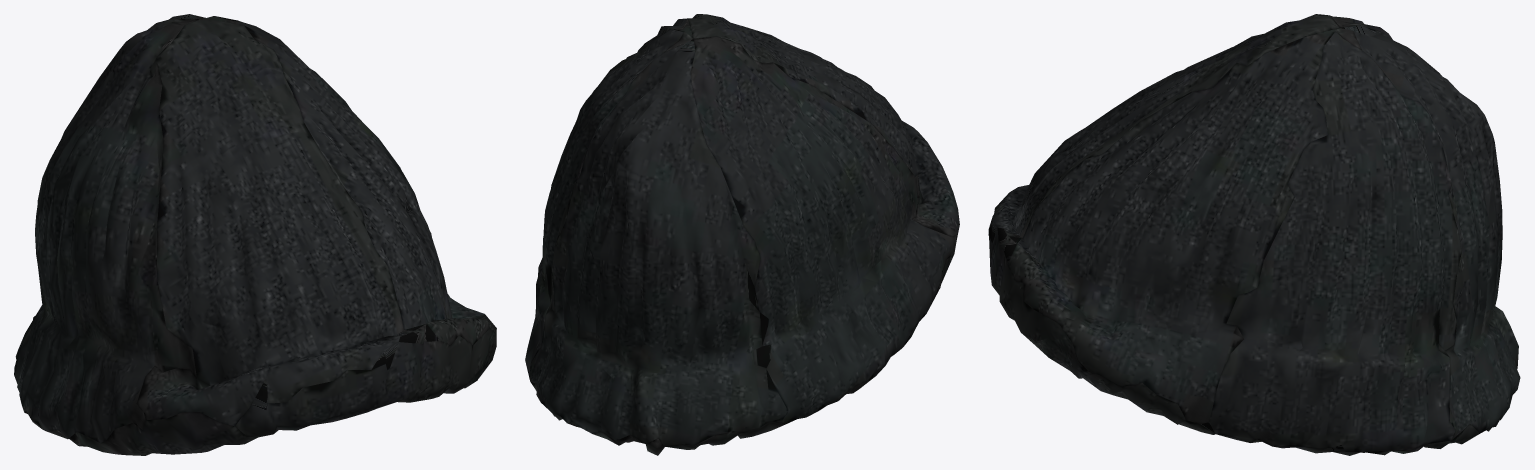
Rendered from wear-beanie.glb.
3 views of the same model, side by side, from view 1: azimuth 30°, elevation 25°; view 2: azimuth 150°, elevation 25°; view 3: azimuth 270°, elevation 25° (orthographic). The views are drawn at different scales.
Visible parts, largest first — view 1: scan-0; view 2: scan-0; view 3: scan-0.
Part boxes in pixels (box(x1,y1,x2,y2)): scan-0: box(14, 14, 496, 455); scan-0: box(525, 14, 959, 455); scan-0: box(988, 14, 1520, 455).
Size of the model in its own units: 166 by 172 by 217.
Materials: 1 (1 with a texture image).
